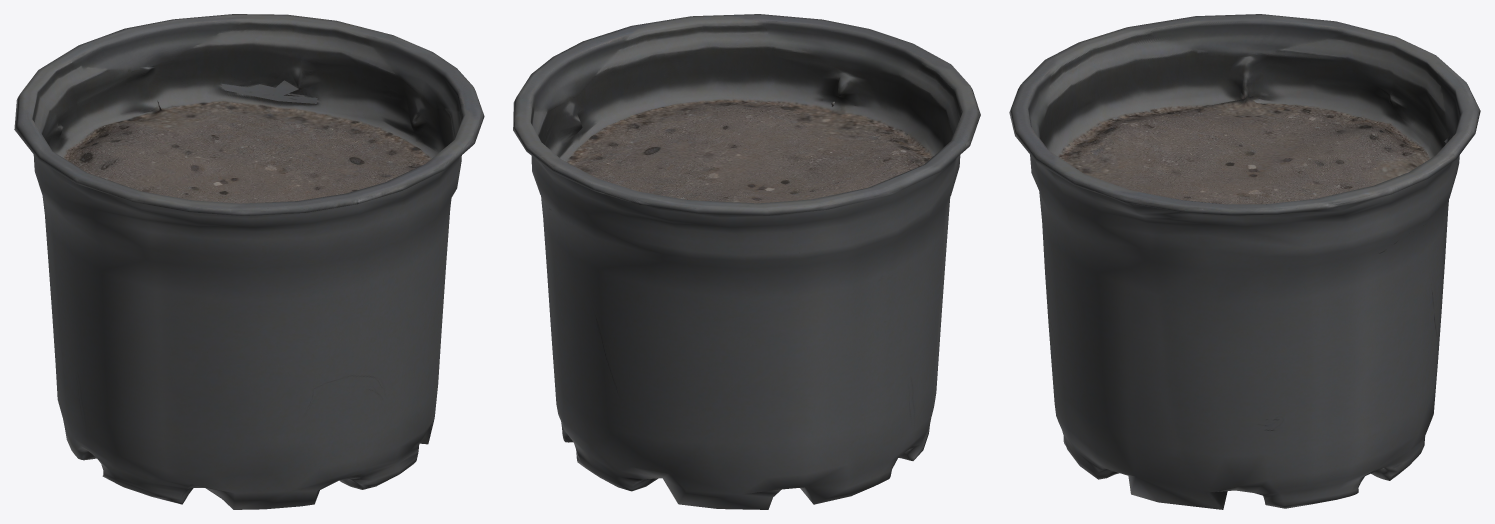
Rendered from pot_nursery_black.glb.
3 renders of one model, left to right at view 1: azimuth 30°, elevation 25°; view 2: azimuth 150°, elevation 25°; view 3: azimuth 270°, elevation 25°, orthographic.
Bounding box in the file's own units: 1.99 × 1.51 × 2.
1 material, 1 textured.
